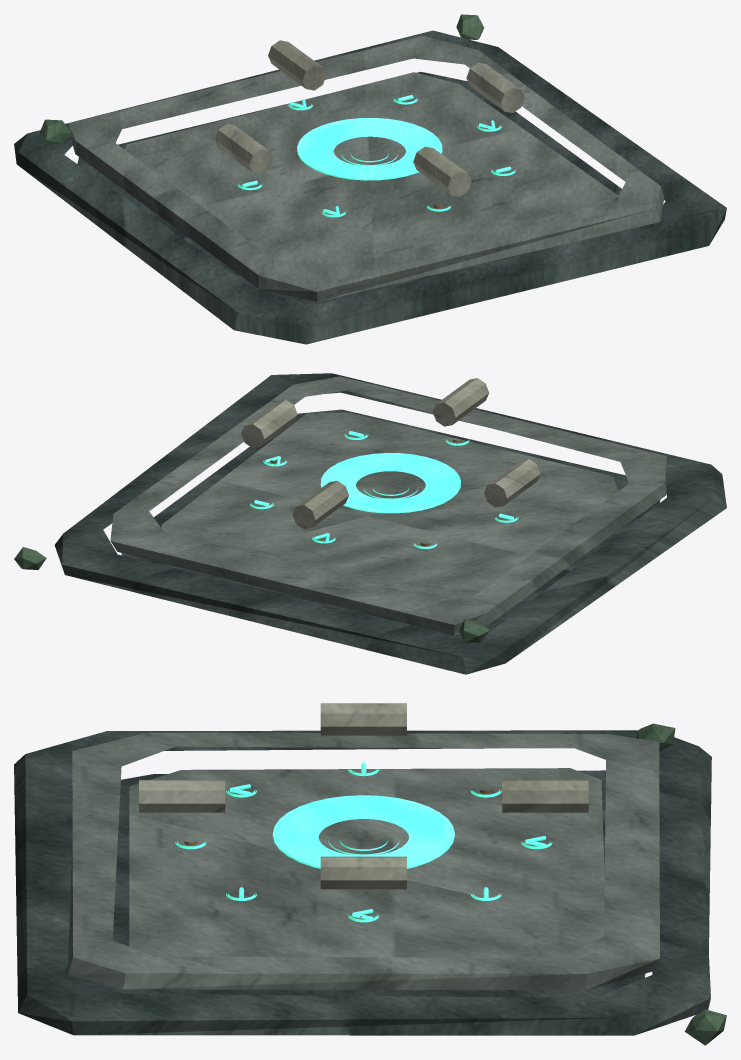
File: 0557_rune_dais_07.glb
3 views of the same model, one above another, from view 1: azimuth 30°, elevation 25°; view 2: azimuth 150°, elevation 25°; view 3: azimuth 270°, elevation 25° (orthographic). The views are drawn at different scales.
Visible parts, largest first — view 1: stone, stone_dark, stone_light, glow, moss; view 2: stone, stone_dark, stone_light, glow, moss; view 3: stone, stone_dark, stone_light, glow, moss.
Boxes of the visible parts, x1,y1,x2,y2 form: stone: (68,35,664,301); stone_dark: (14,30,726,344); stone_light: (215,40,524,196); glow: (237,95,515,217); moss: (40,14,484,144); stone: (110,376,666,635); stone_dark: (54,373,726,674); stone_light: (241,378,540,529); glow: (250,431,518,548); moss: (14,547,489,642); stone: (67,732,659,989); stone_dark: (14,730,711,1035); stone_light: (139,703,588,889); glow: (175,762,552,922); moss: (636,723,726,1045).
Bounding box in the file's own units: 4.1 × 0.7318 × 4.12.
6 materials, 6 textured.
